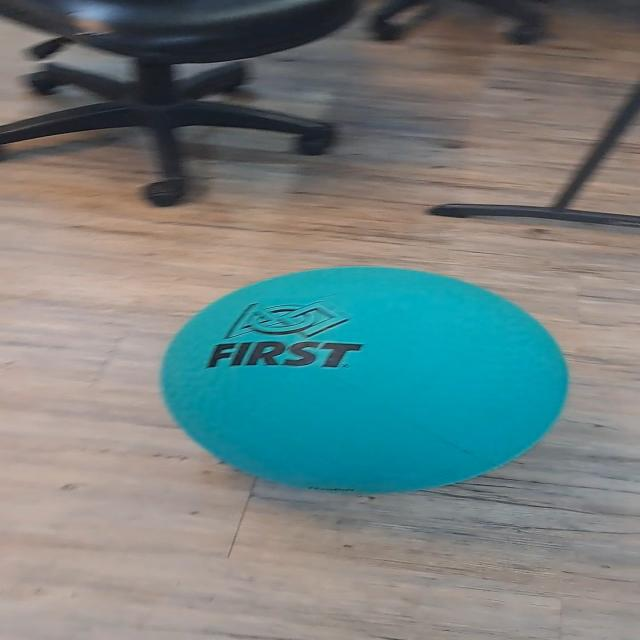ALGAE: (157, 263, 570, 495)
